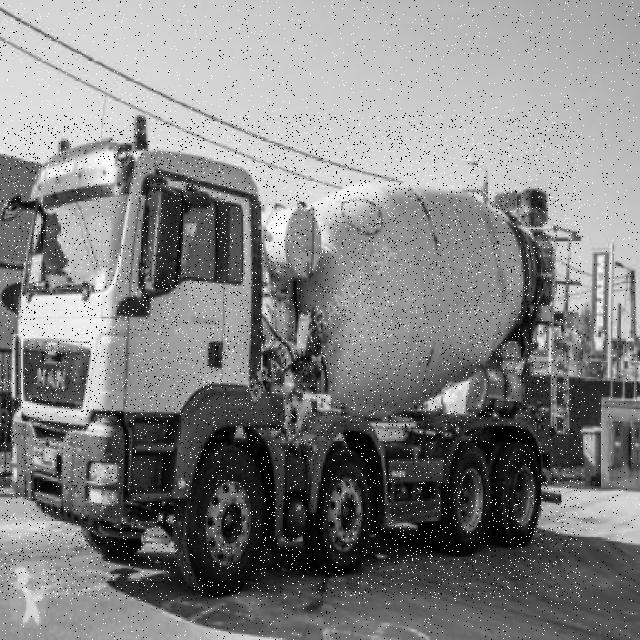Concrete Mixer: (0, 115, 582, 599)
